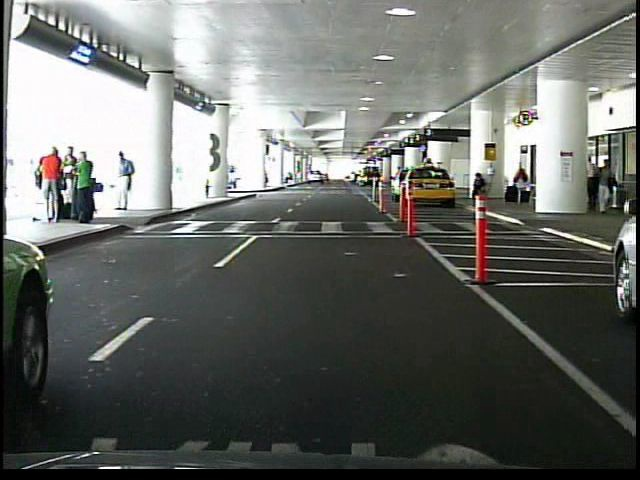person: (74, 151, 97, 227), (44, 146, 66, 222), (113, 151, 137, 214), (592, 153, 616, 214), (66, 145, 81, 212), (513, 160, 529, 205), (470, 170, 488, 200)
